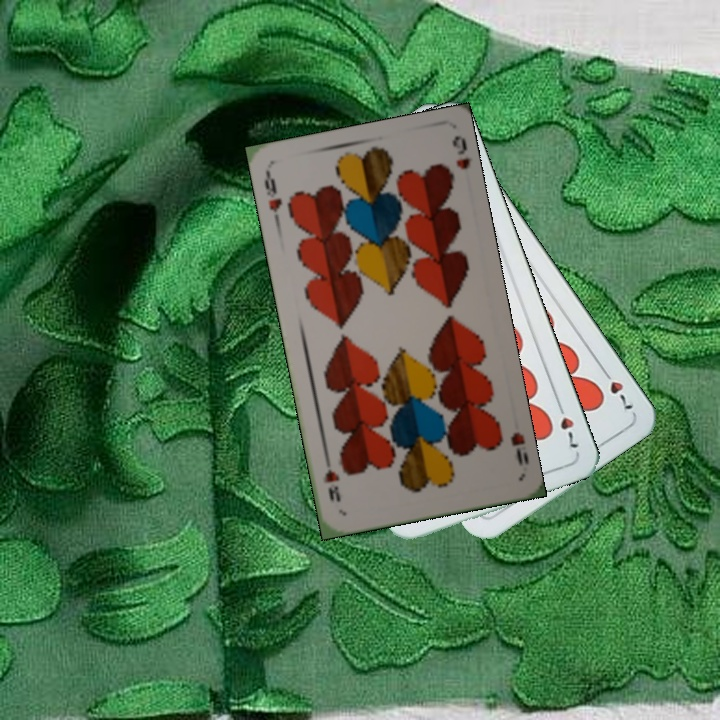H7: (597, 363, 636, 413), (553, 397, 582, 454)
H9: (260, 168, 285, 226), (506, 428, 531, 469)
